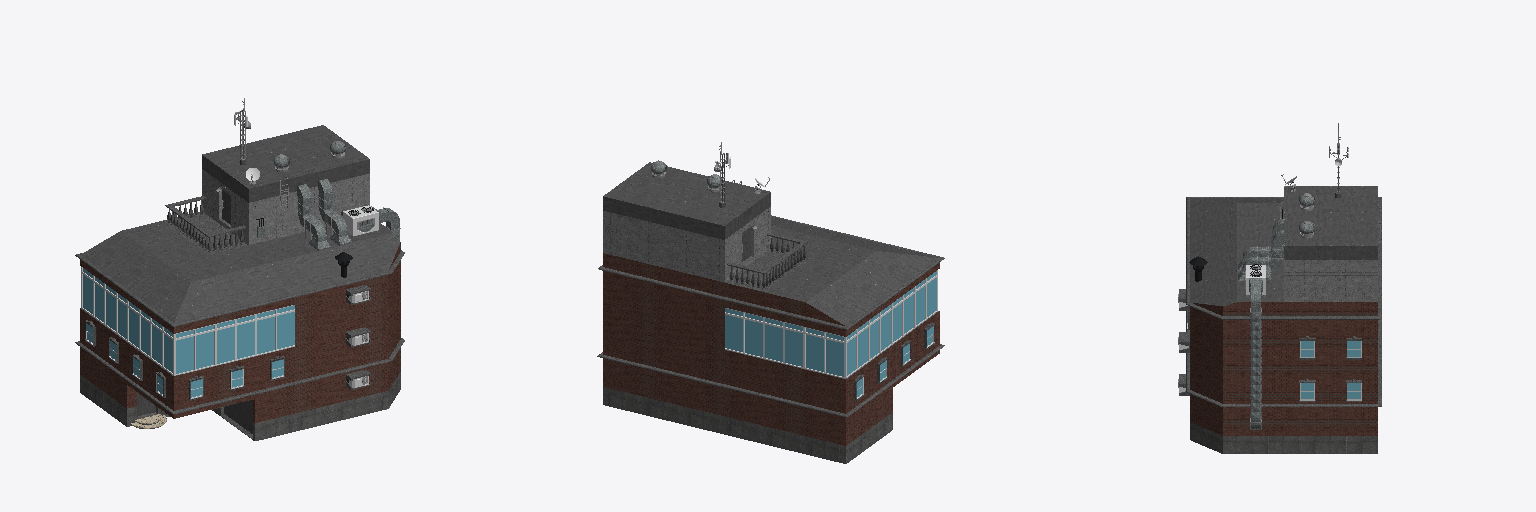
3 renders of one model, left to right at view 1: azimuth 30°, elevation 25°; view 2: azimuth 150°, elevation 25°; view 3: azimuth 270°, elevation 25°, orthographic.
Visible parts, largest first — view 1: Building_Small_DownTown14_Building_Small_DownTown14_Mesh; view 2: Building_Small_DownTown14_Building_Small_DownTown14_Mesh; view 3: Building_Small_DownTown14_Building_Small_DownTown14_Mesh.
Part boxes in pixels (bbox=[...]): Building_Small_DownTown14_Building_Small_DownTown14_Mesh: bbox=[75, 98, 404, 440]; Building_Small_DownTown14_Building_Small_DownTown14_Mesh: bbox=[597, 142, 944, 463]; Building_Small_DownTown14_Building_Small_DownTown14_Mesh: bbox=[1178, 123, 1381, 453].
Size of the model in its own units: 19.27 by 20.02 by 13.04.
13 materials, 11 textured.